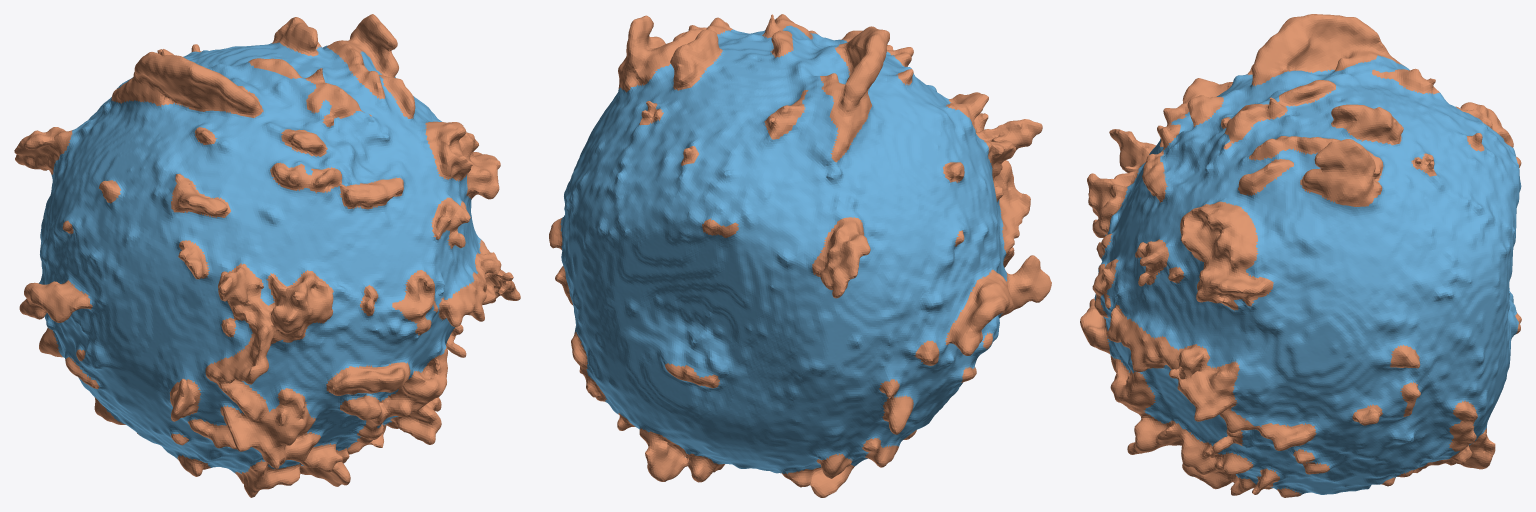
The picture shows the model from 3 angles, left to right: view 1: azimuth 30°, elevation 25°; view 2: azimuth 150°, elevation 25°; view 3: azimuth 270°, elevation 25°; orthographic projection. The views are drawn at different scales.
Bounding box in the file's own units: 163 × 158 × 149.
